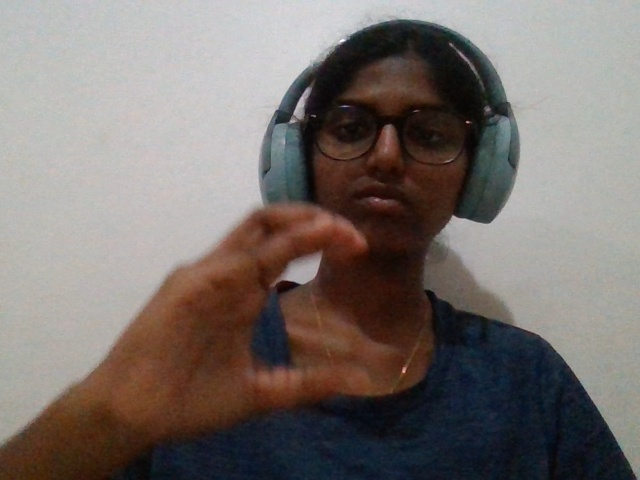C: (62, 174, 382, 467)
